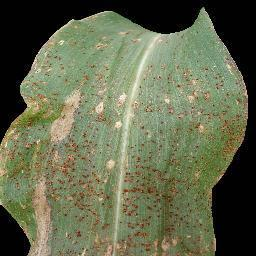Corn_Common_Rust: (122, 6, 249, 256), (0, 6, 121, 256)
